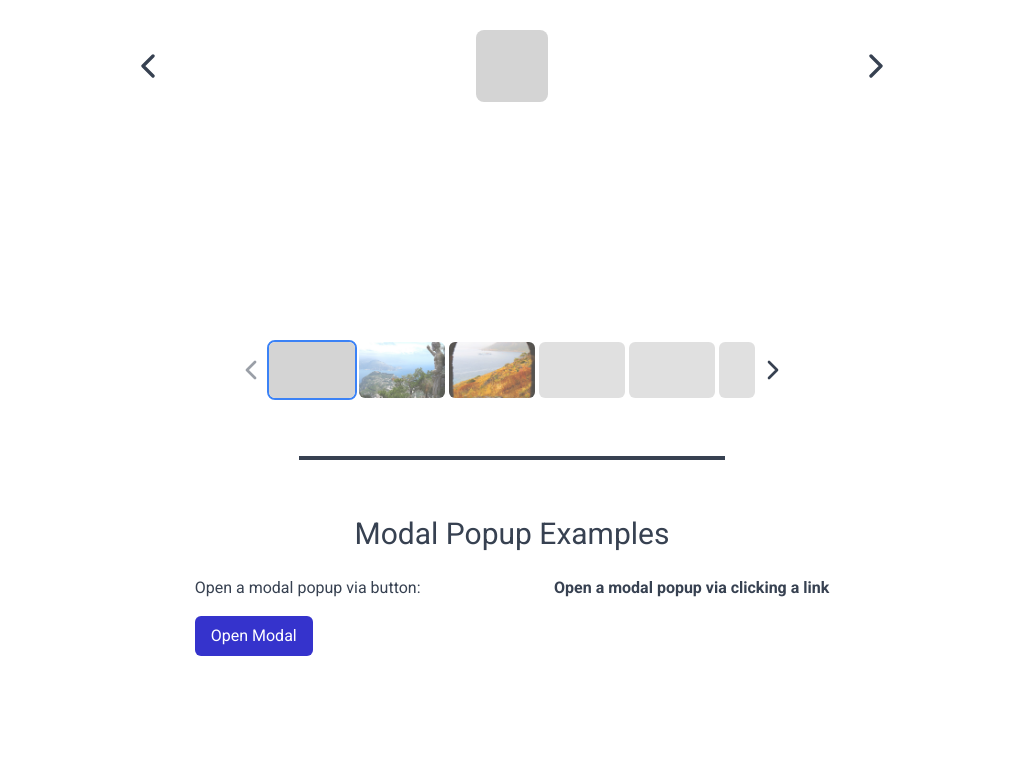
Test: Projects Page Component › opens modal when link is clicked
(page scrolled)
Click the link "Open a modal popup via clicking a link" at (692, 588), box [554,578,829,597]
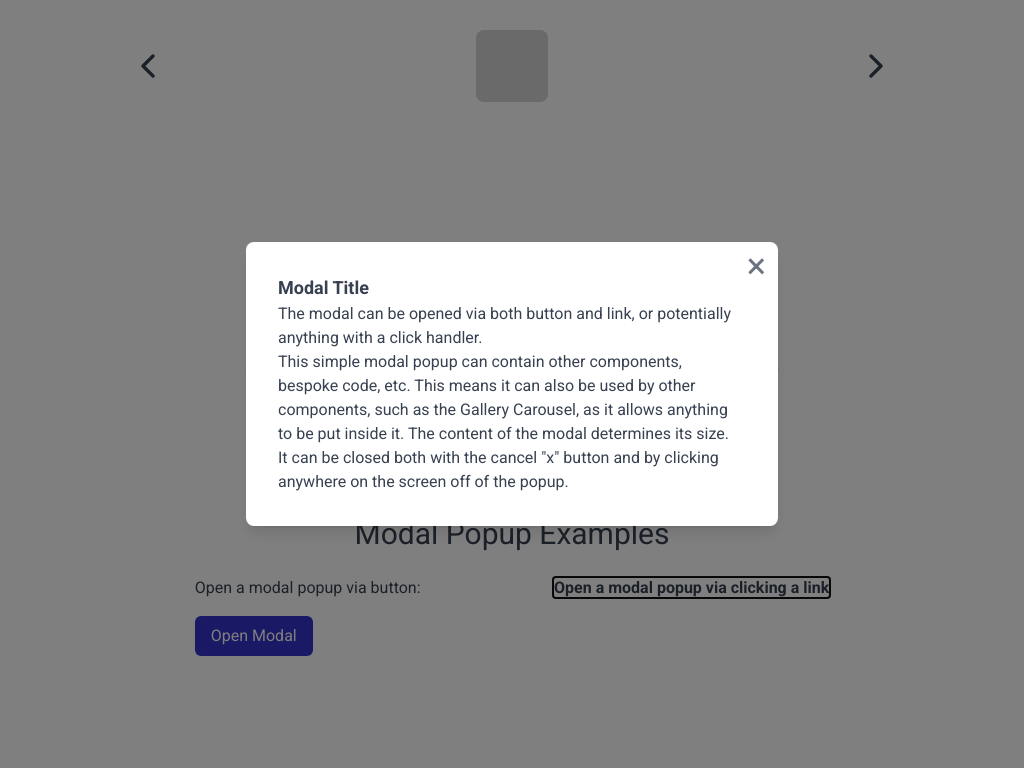
Now the dialog is shown
